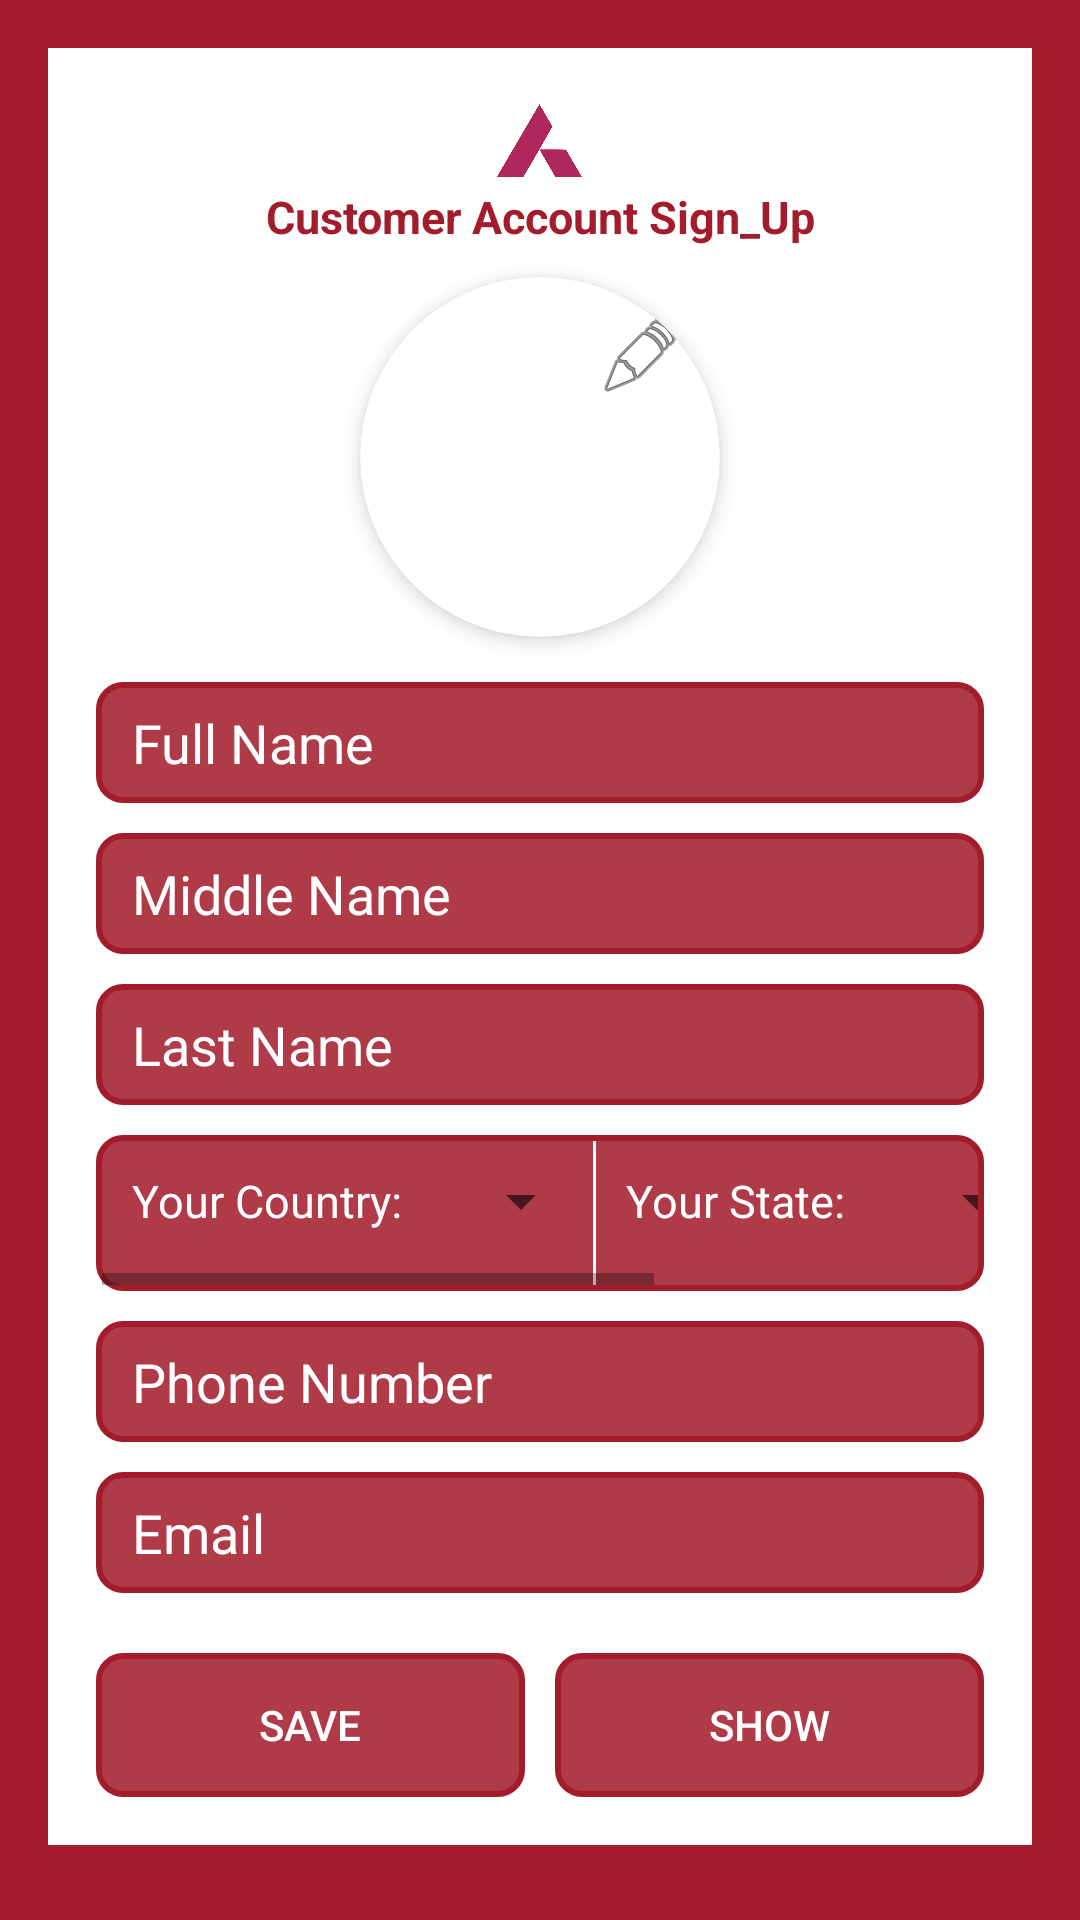

Named icons in this screenshot (1080w x 1920h) and their centers, [x,y]:
edit: [640,355]
